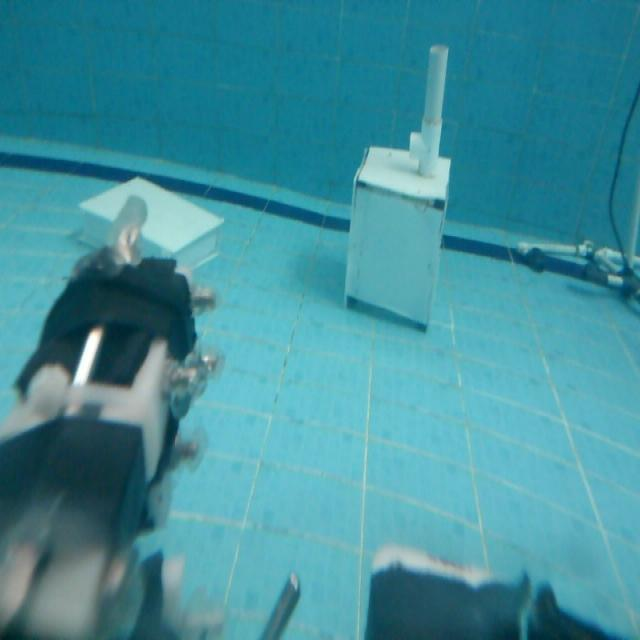Cube: (342, 142, 453, 335)
Cuboid: (76, 172, 224, 272)
